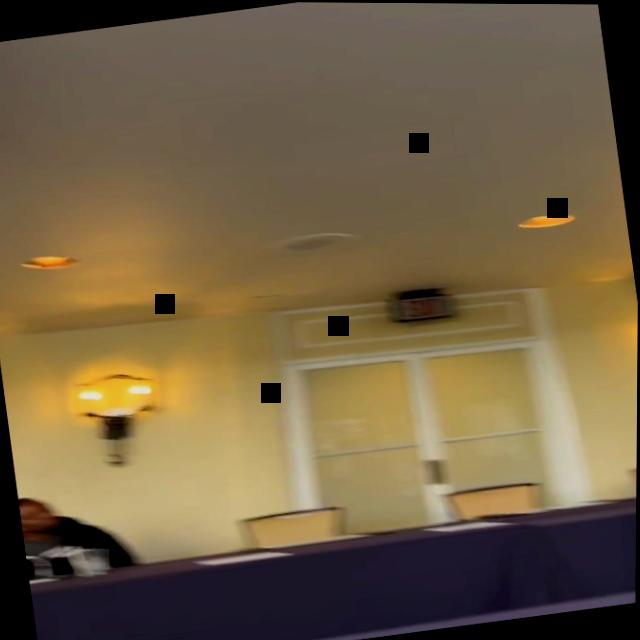NO-Mask: (19, 498, 58, 533)
